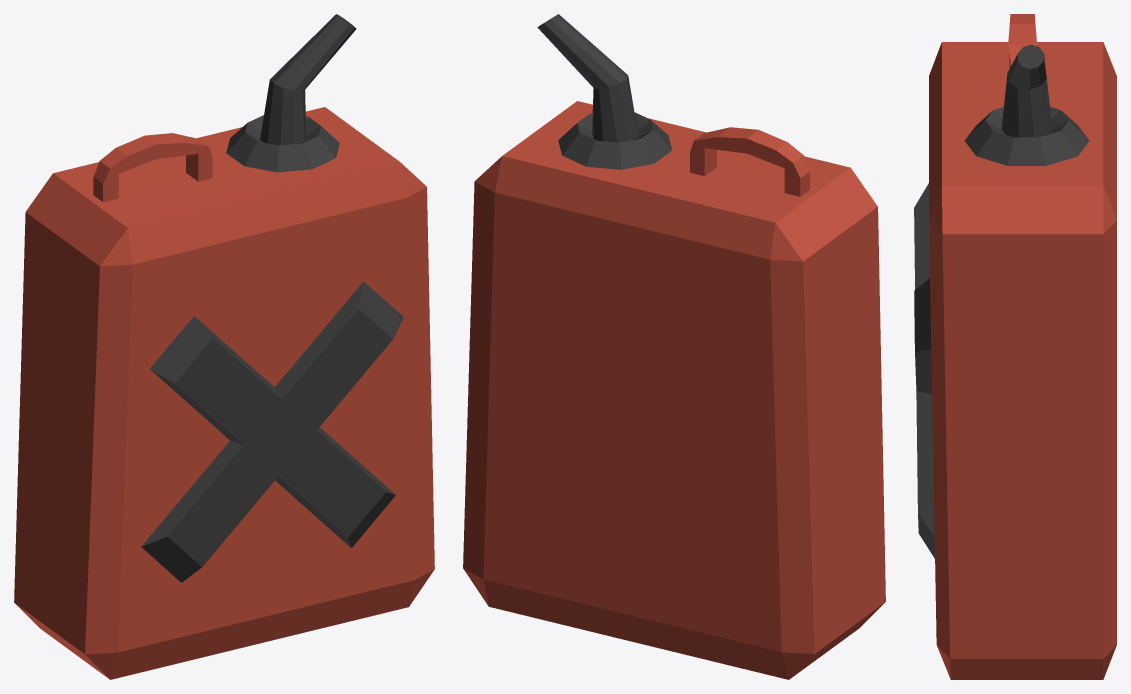
Rendered from GAS 2.0.fbx.
3 views of the same model, side by side, from view 1: azimuth 30°, elevation 25°; view 2: azimuth 150°, elevation 25°; view 3: azimuth 270°, elevation 25° (orthographic). The views are drawn at different scales.
Visible parts, largest first — view 1: GAS; view 2: GAS; view 3: GAS.
Part boxes in pixels (left/top/right/bottom): GAS: left=14, top=14, right=434, bottom=679; GAS: left=463, top=14, right=885, bottom=679; GAS: left=914, top=14, right=1116, bottom=679.
Size of the model in its own units: 132 by 207 by 61.58.
